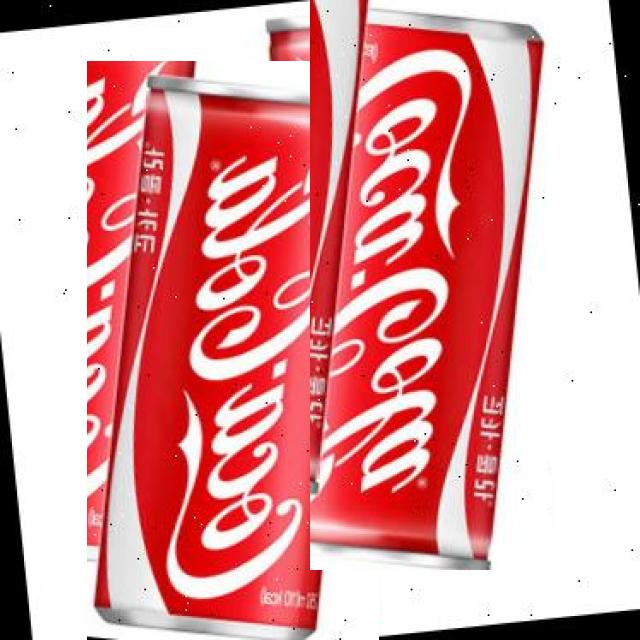coca-cola: (87, 61, 379, 640), (310, 0, 552, 570)
